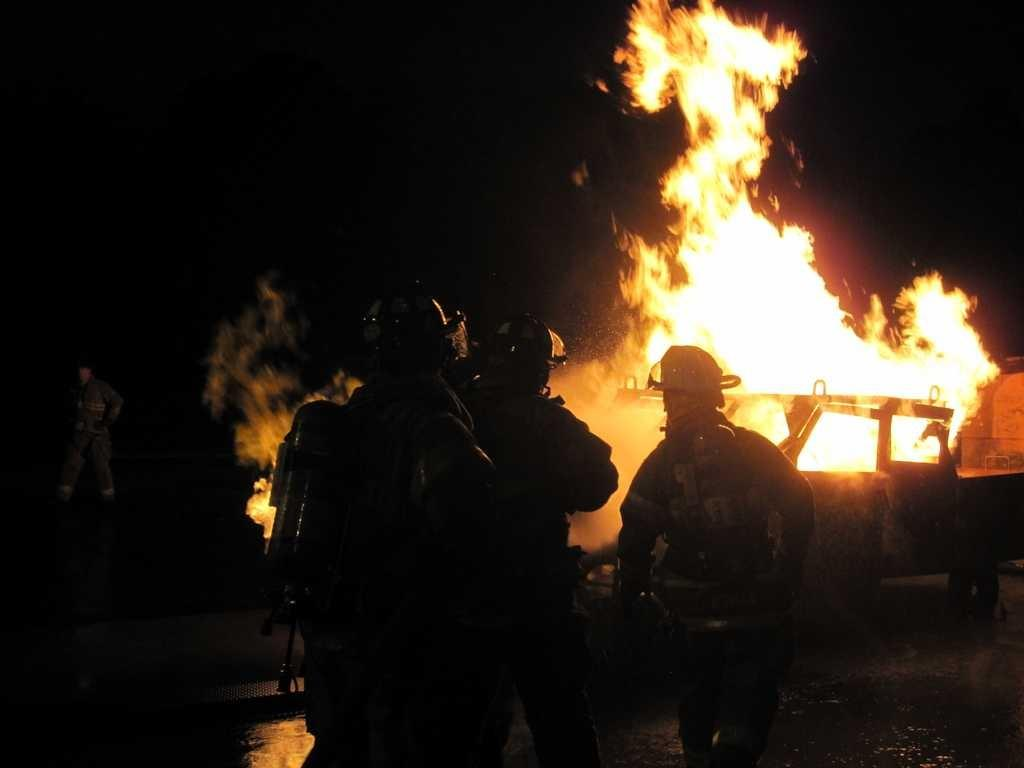fire: (666, 178, 756, 350), (640, 6, 776, 118), (838, 318, 976, 396), (766, 234, 820, 398)
